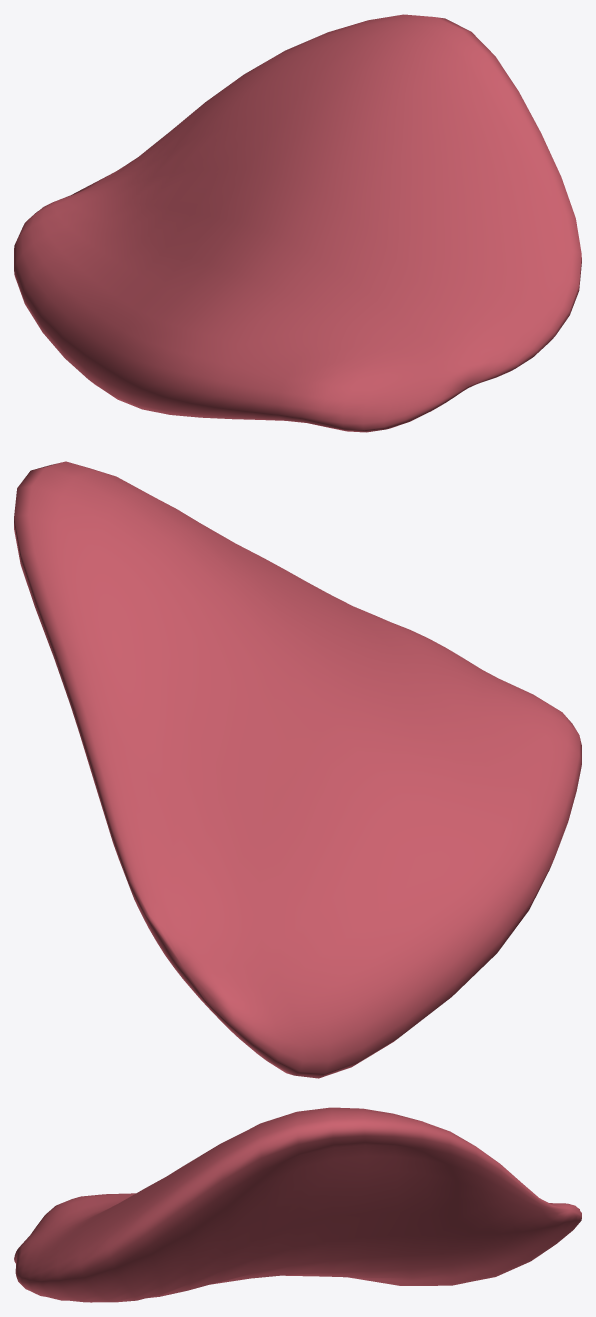
The picture shows the model from 3 angles, top to bottom: view 1: azimuth 30°, elevation 25°; view 2: azimuth 150°, elevation 25°; view 3: azimuth 270°, elevation 25°; orthographic projection. The views are drawn at different scales.
Parts seen in each view (by area): view 1: 右侧臀中肌转子囊; view 2: 右侧臀中肌转子囊; view 3: 右侧臀中肌转子囊.
Boxes of the visible parts, x1,y1,x2,y2 form: 右侧臀中肌转子囊: (14,14,581,432); 右侧臀中肌转子囊: (14,461,581,1078); 右侧臀中肌转子囊: (14,1107,581,1302).
Bounding box in the file's own units: 0.0228 × 0.0194 × 0.0328.
